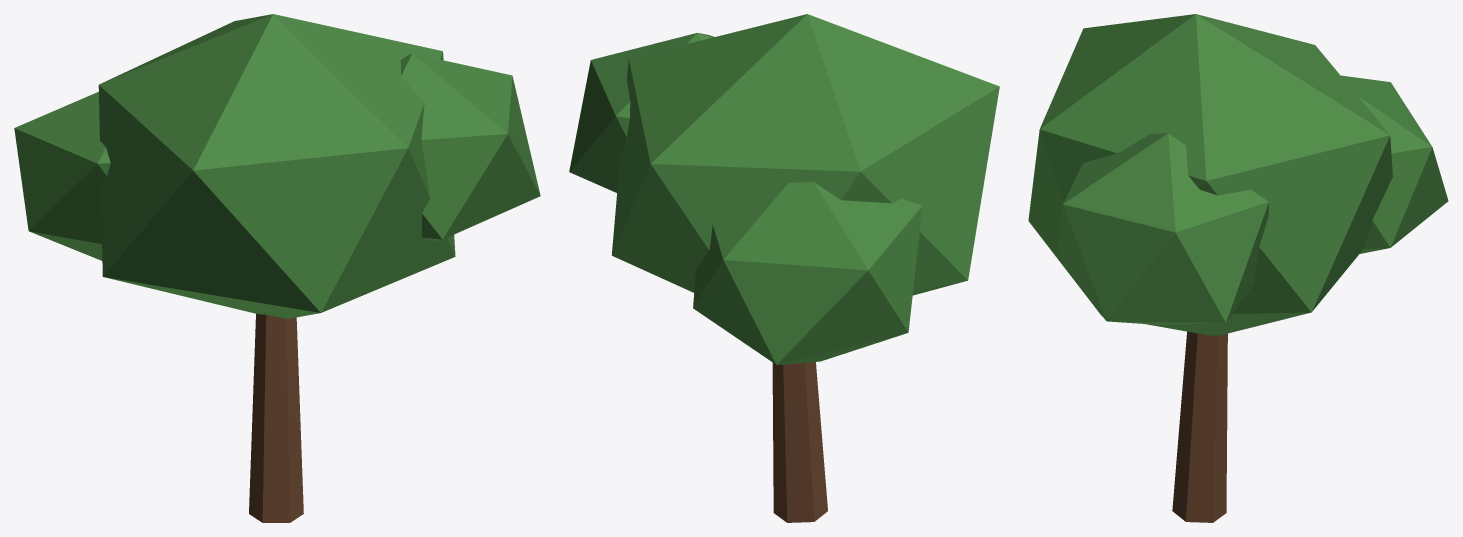
The model's file is Round_B.glb.
3 renders of one model, left to right at view 1: azimuth 30°, elevation 25°; view 2: azimuth 150°, elevation 25°; view 3: azimuth 270°, elevation 25°, orthographic.
Visible parts, largest first — view 1: Round_B; view 2: Round_B; view 3: Round_B.
Boxes of the visible parts, left/top/right/bottom form: Round_B: left=14, top=14, right=540, bottom=522; Round_B: left=569, top=14, right=999, bottom=522; Round_B: left=1028, top=14, right=1448, bottom=522.
Bounding box in the file's own units: 4.06 × 4.85 × 3.72.
